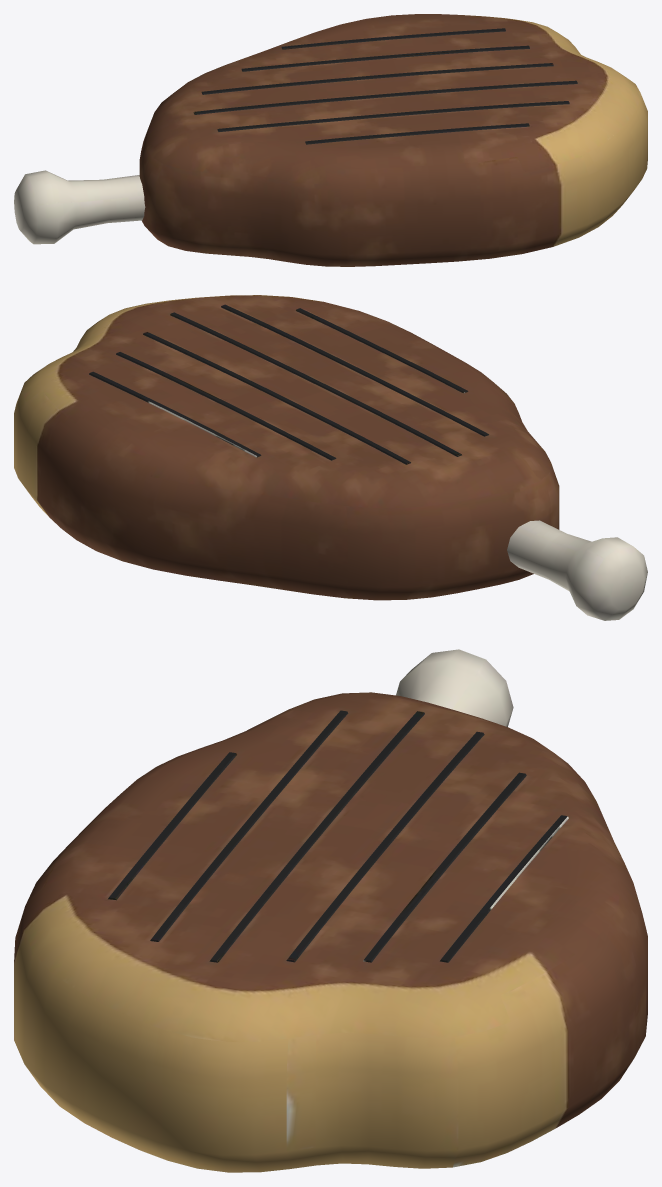
Rendered from carne_assada.glb.
3 renders of one model, top to bottom at view 1: azimuth 30°, elevation 25°; view 2: azimuth 150°, elevation 25°; view 3: azimuth 270°, elevation 25°, orthographic. The views are drawn at different scales.
Parts seen in each view (by area): view 1: carne, osso; view 2: carne, osso; view 3: carne, osso.
Part boxes in pixels (x1,y1,x2,y2): carne: [139, 14, 647, 266]; osso: [14, 170, 145, 244]; carne: [14, 295, 559, 600]; osso: [507, 520, 647, 620]; carne: [14, 692, 647, 1172]; osso: [396, 649, 513, 726].
Bounding box in the file's own units: 0.1809 × 0.037 × 0.1116.
1 material, 1 textured.
